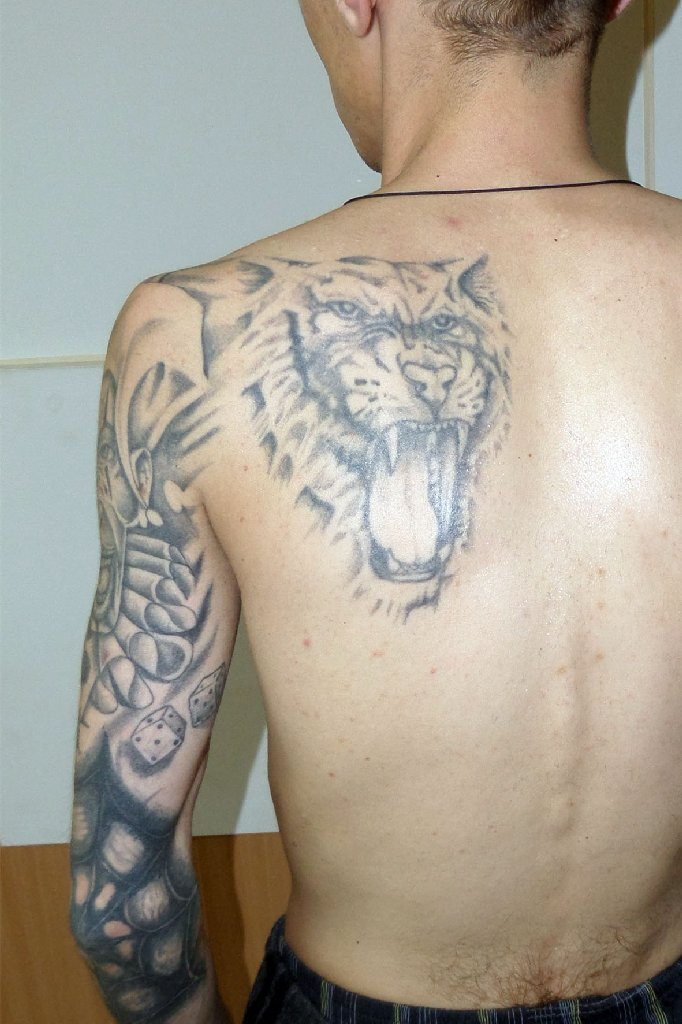tatu5_tigr: (231, 250, 520, 630)
